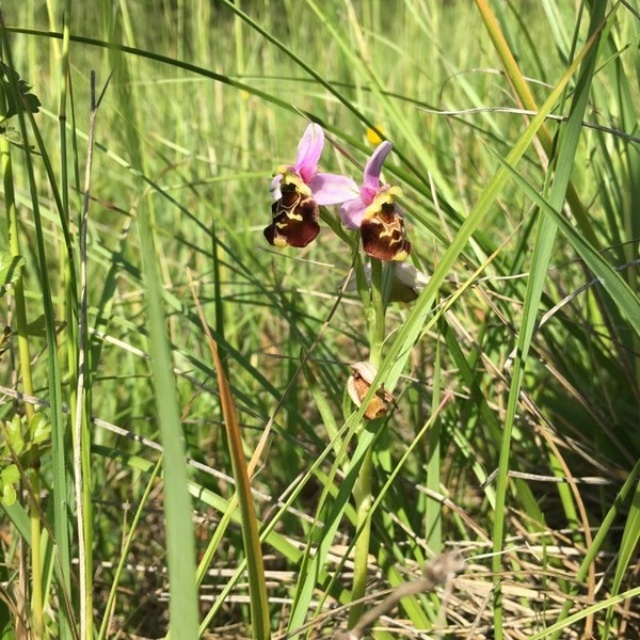obstacle: (256, 99, 556, 571)
